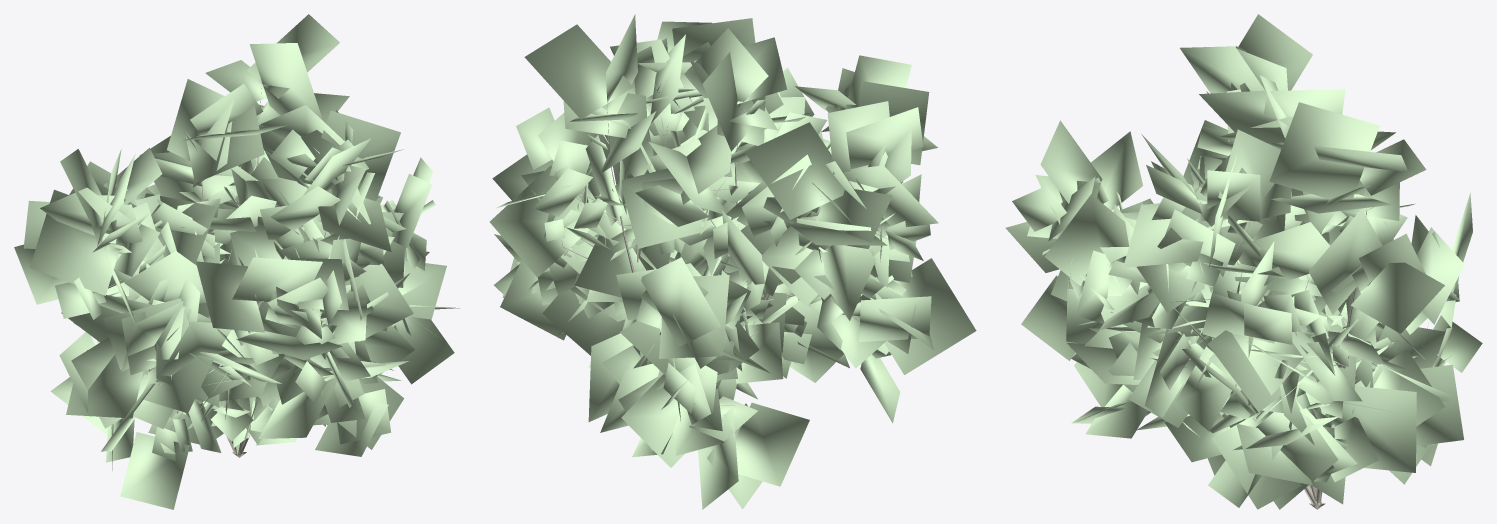
The model's file is bush_1_v1_lod2.glb.
The picture shows the model from 3 angles, left to right: view 1: azimuth 30°, elevation 25°; view 2: azimuth 150°, elevation 25°; view 3: azimuth 270°, elevation 25°; orthographic projection. The views are drawn at different scales.
Parts seen in each view (by area): view 1: Leaves; view 2: Leaves, Branches; view 3: Leaves, Branches.
Boxes of the visible parts, x1,y1,x2,y2 form: Leaves: [14, 14, 459, 509]; Leaves: [489, 14, 976, 509]; Branches: [561, 104, 893, 436]; Leaves: [1005, 14, 1482, 509]; Branches: [1061, 176, 1450, 509].
Size of the model in its own units: 31.63 by 29.49 by 29.02.
